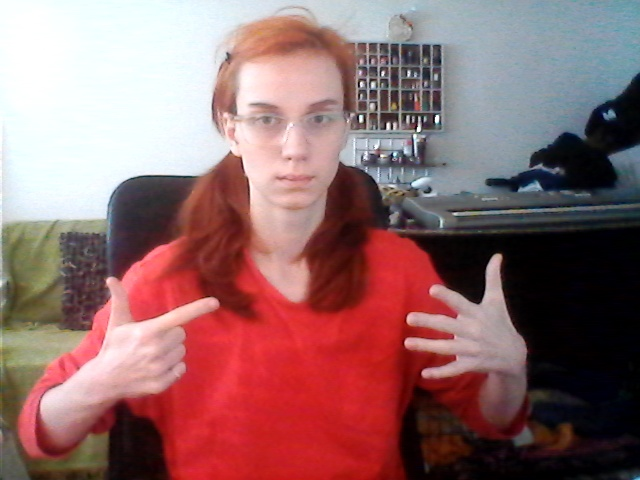sedem: (104, 251, 528, 405)
